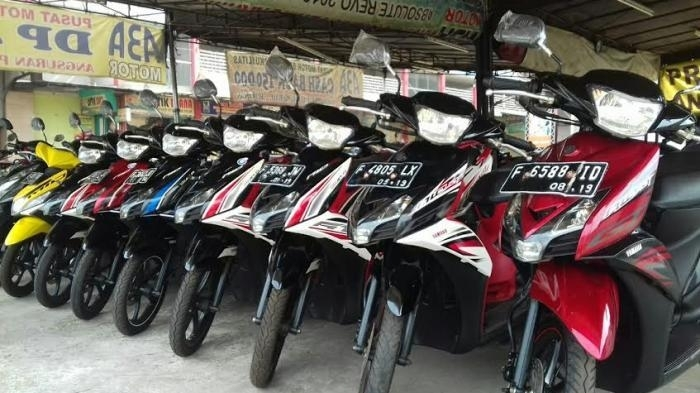plate: (508, 164, 601, 196), (349, 161, 417, 190), (254, 164, 302, 186)
